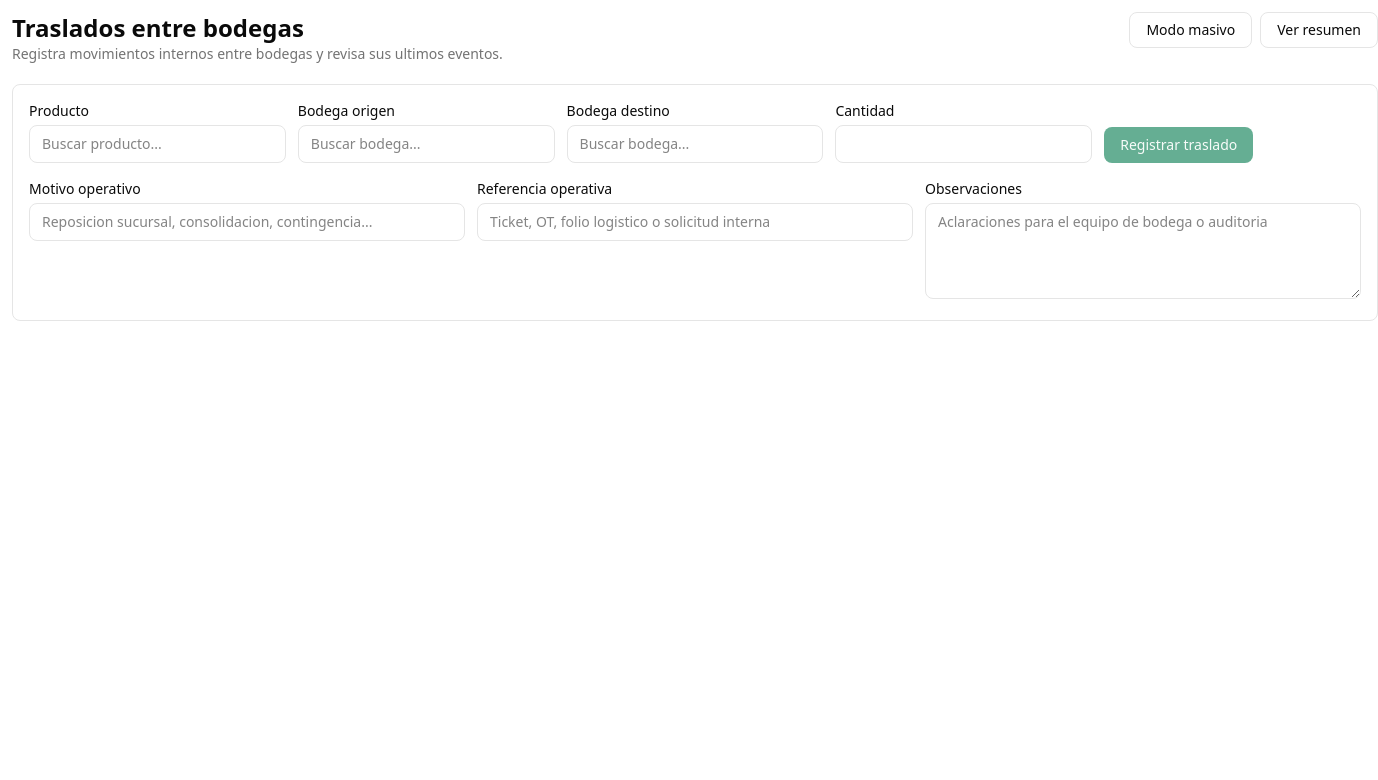
Test: inventario/InventarioTrasladosPage › muestra error del contrato API al registrar un traslado
Expected: the heading "Traslados entre bodegas" is shown, [12,11,304,44]
Type "Moto" into the dropdown named "Producto traslado" at (157, 144), box [29,125,286,163]
Then press Enter
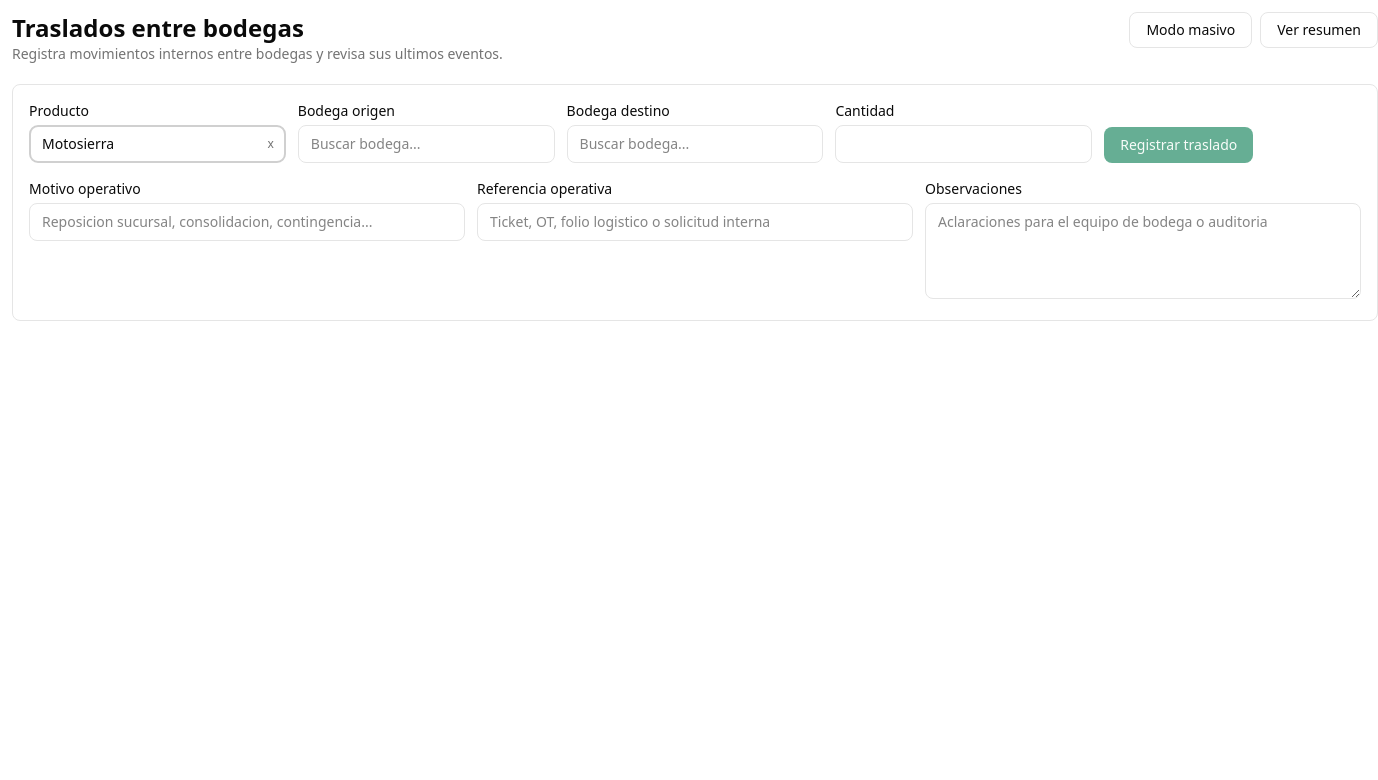
Type "Prin" into the dropdown labelled "Bodega origen" at (426, 144), box [298,125,555,163]
Then press Enter
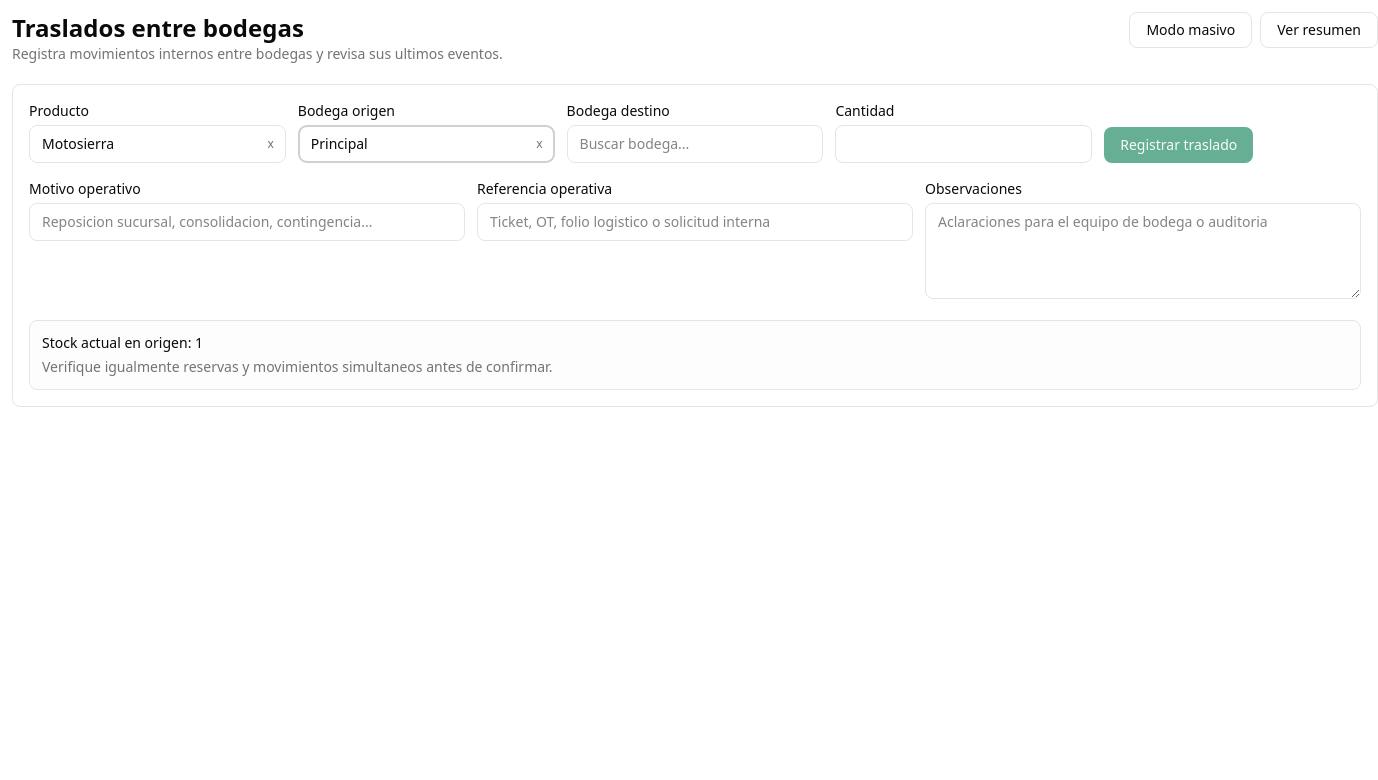
Type "Secu" into the dropdown labelled "Bodega destino" at (695, 144), box [567,125,823,163]
Then press Enter
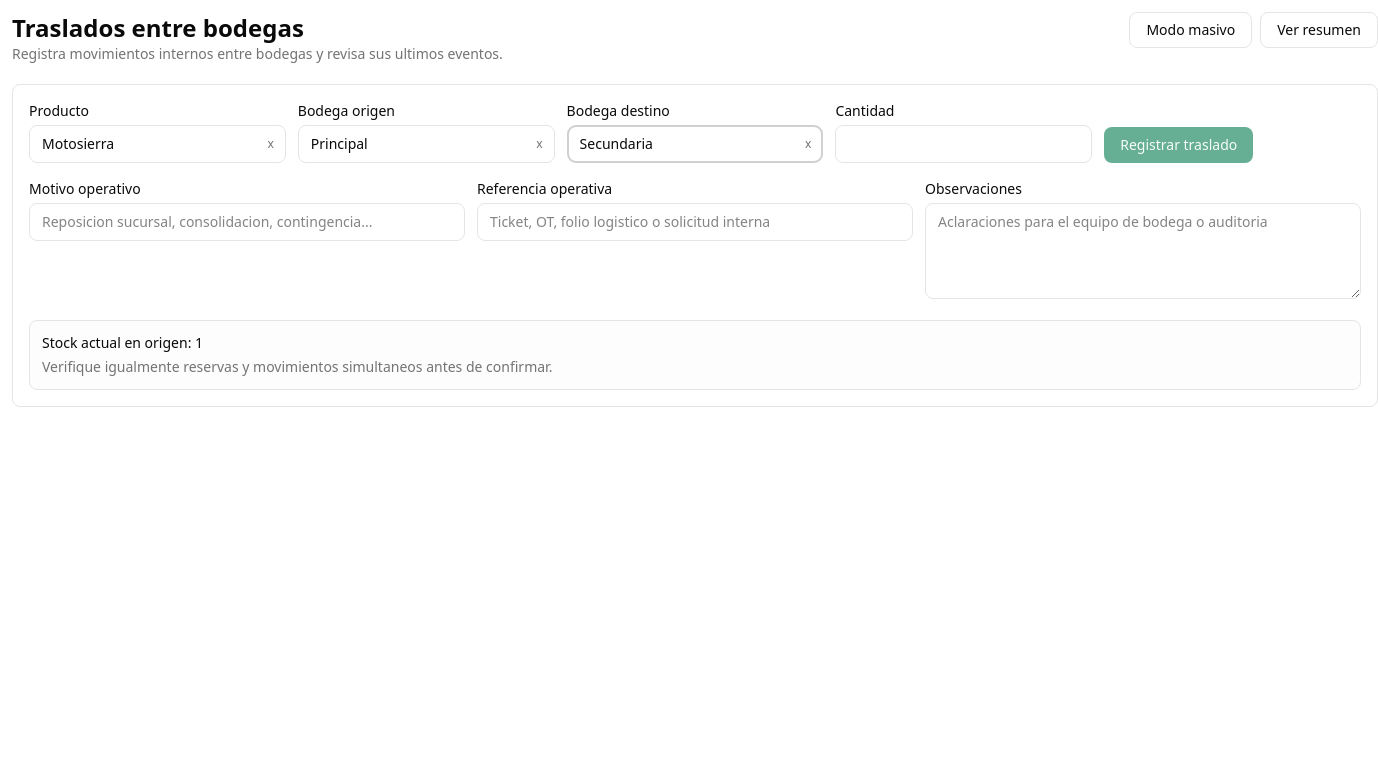
Type "2" into the number field labelled "Cantidad" at (964, 144), box [835,125,1092,163]
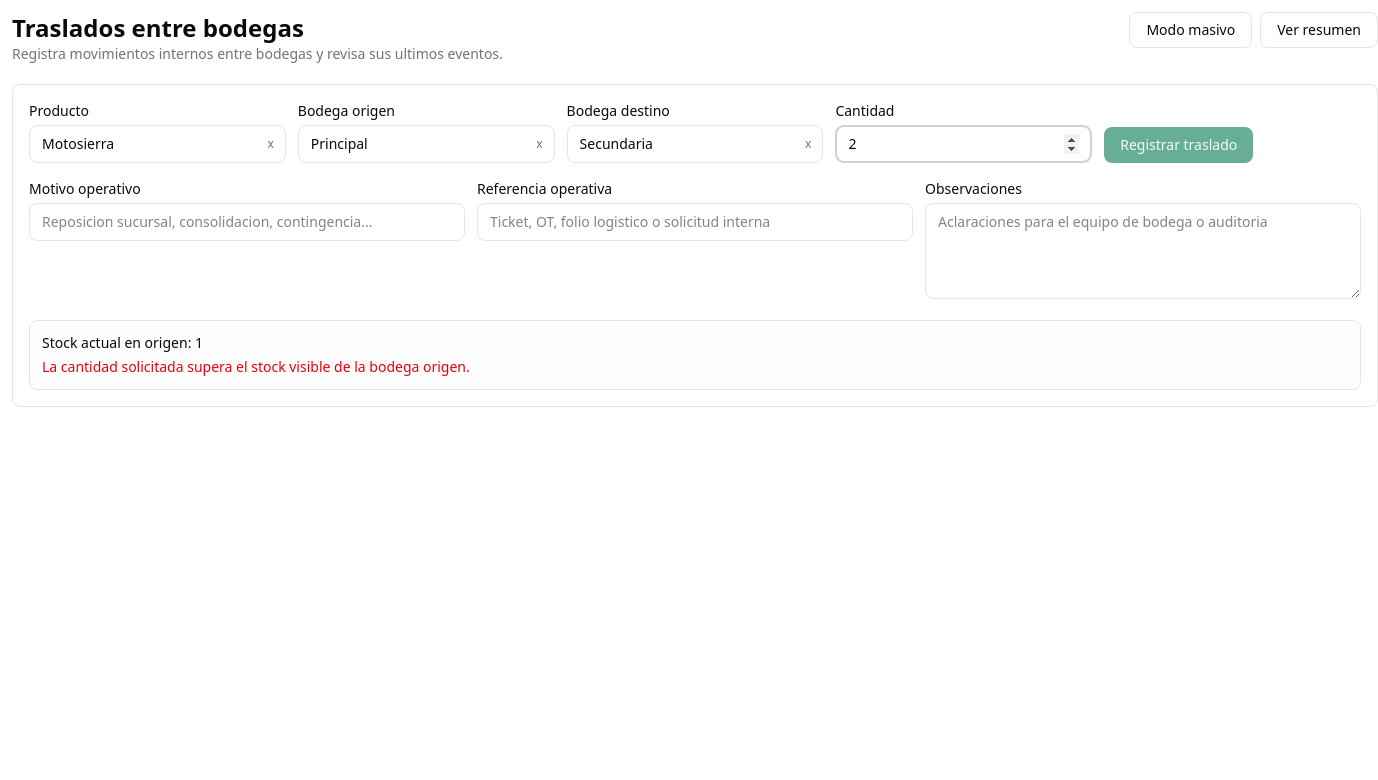
Type "Reposicion urgente" into the field labelled "Motivo operativo" at (247, 222), box [29,203,465,241]
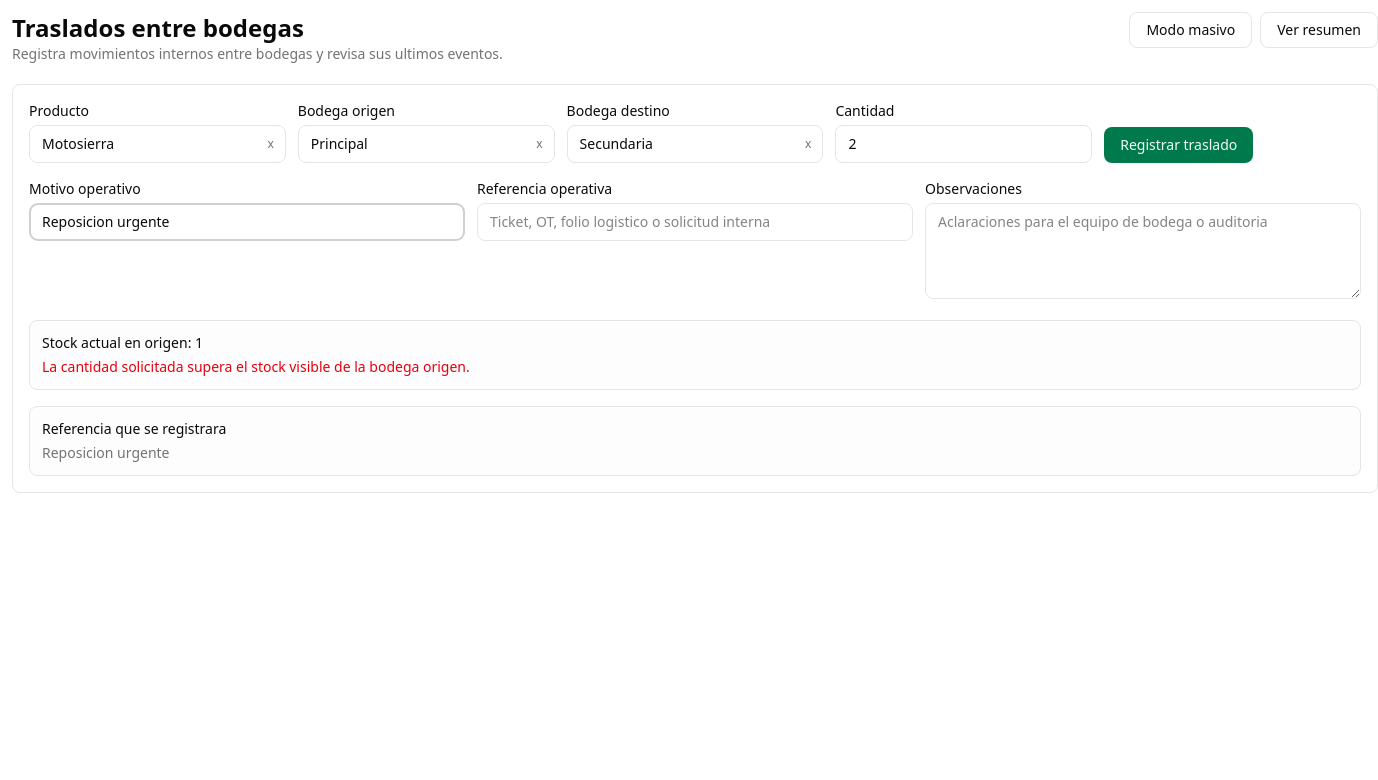
Click the button "Registrar traslado" at (1179, 145), box [1104,127,1253,163]
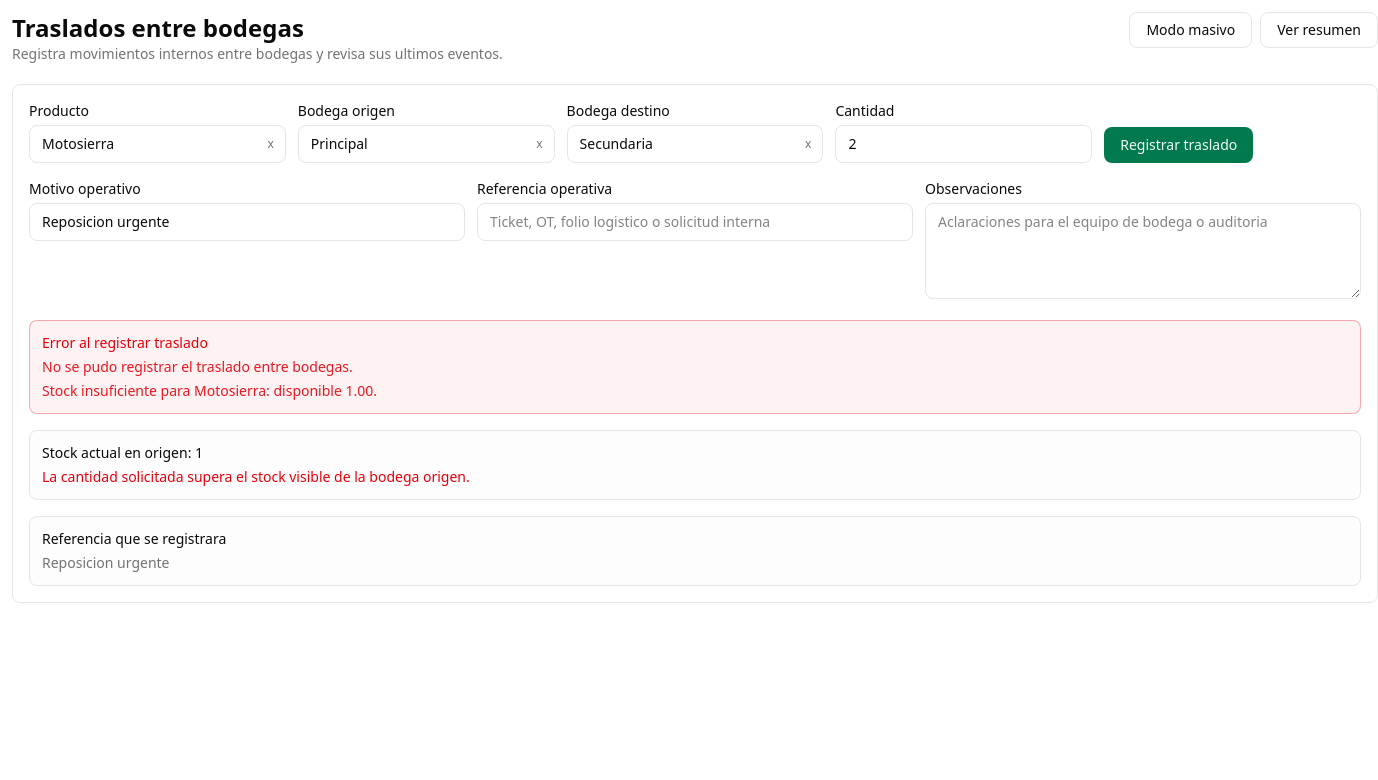
Expected: the text "Error al registrar traslado" is shown, [42,333,208,352]
Expected: the text "Stock insuficiente para Motosierra: disponible 1.00." is shown, [42,381,377,400]
